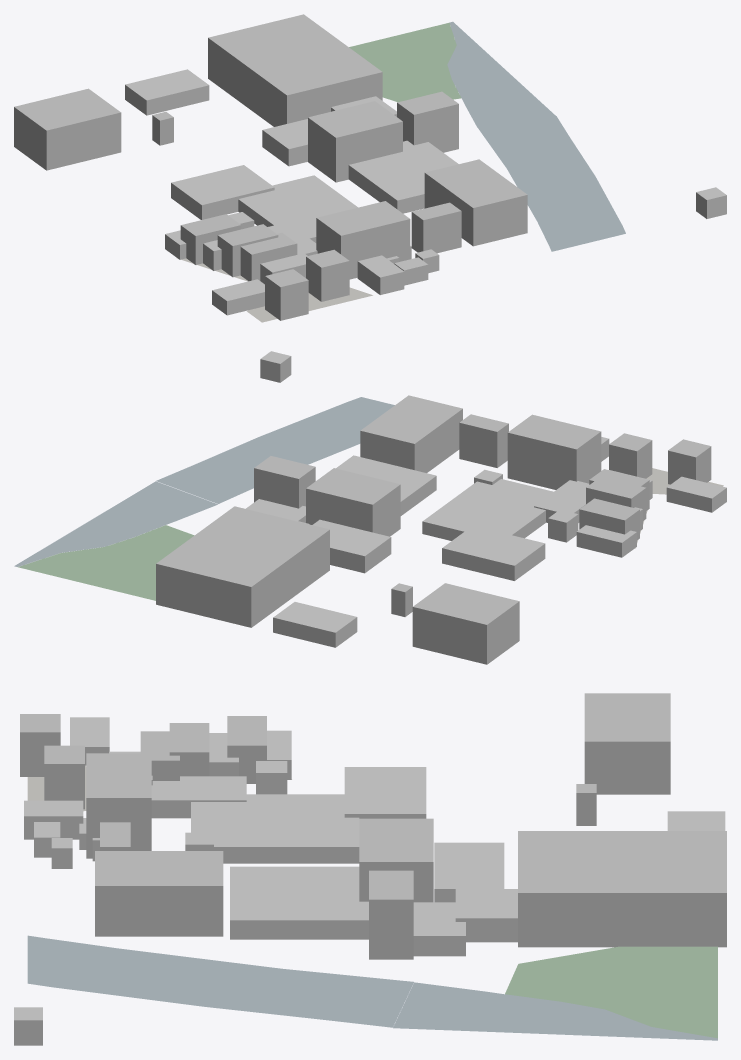
Rendered from 124_95_mid.glb.
The picture shows the model from 3 angles, top to bottom: view 1: azimuth 30°, elevation 25°; view 2: azimuth 150°, elevation 25°; view 3: azimuth 270°, elevation 25°; orthographic projection. The views are drawn at different scales.
Size of the model in its own units: 530 by 49.38 by 516.
